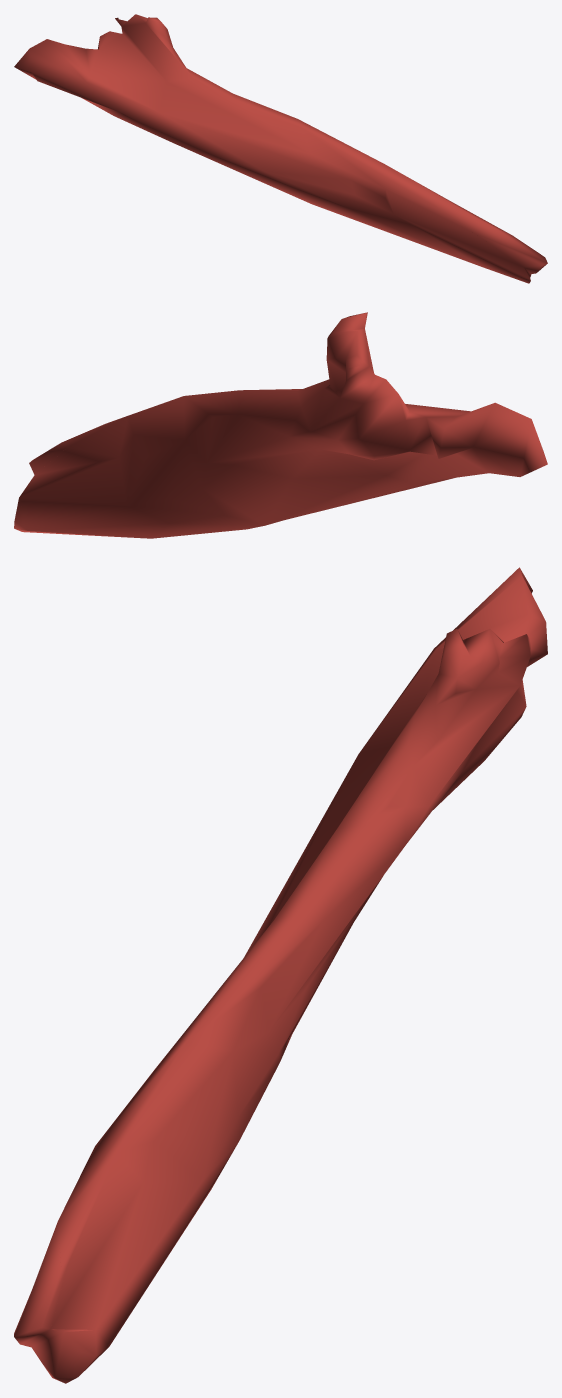
Rendered from musculos-opponens-pollicis-muscle-l.glb.
The picture shows the model from 3 angles, top to bottom: view 1: azimuth 30°, elevation 25°; view 2: azimuth 150°, elevation 25°; view 3: azimuth 270°, elevation 25°; orthographic projection. The views are drawn at different scales.
Parts seen in each view (by area): view 1: Opponens pollicis muscle.l; view 2: Opponens pollicis muscle.l; view 3: Opponens pollicis muscle.l.
Part boxes in pixels (bbox=[...]): Opponens pollicis muscle.l: bbox=[14, 14, 547, 283]; Opponens pollicis muscle.l: bbox=[14, 312, 547, 538]; Opponens pollicis muscle.l: bbox=[14, 567, 547, 1383].
Bounding box in the file's own units: 0.0463 × 0.0284 × 0.0279.
